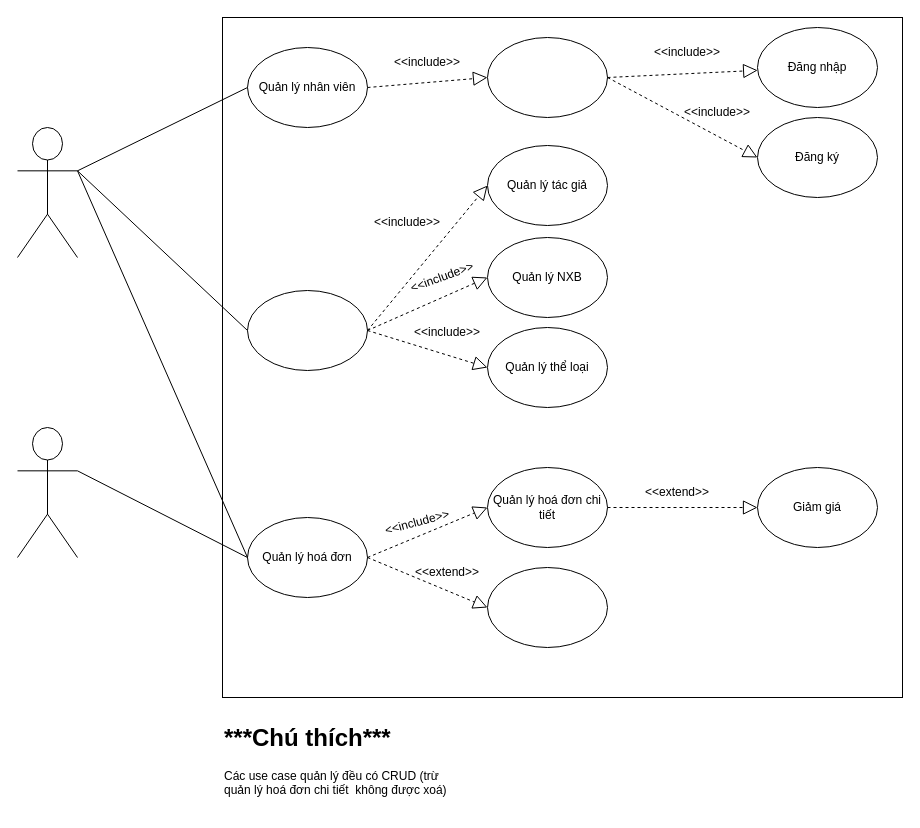
The diagram is 920 pixels wide and 828 high, and some of its shapes have lost their labels. The shapes that lost their labels are listed below. From the top down, each one's centre as x and y in pixels, then its label:
At pixel 547 77: "Quản lý tài khoản".
At pixel 47 192: "Admin".
At pixel 307 330: "Quản lý sách".
At pixel 47 492: "Nhân viên".
At pixel 547 607: "Quản lý khách hàng".
